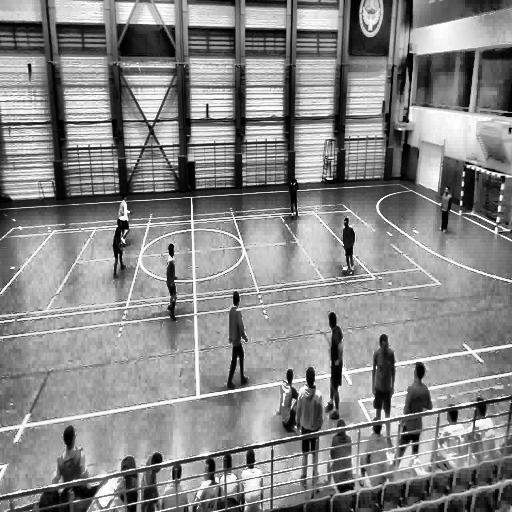ball: (342, 264, 348, 278)
player: (392, 361, 432, 474), (292, 366, 323, 493), (371, 334, 395, 437), (432, 401, 466, 471), (226, 291, 249, 387), (357, 417, 388, 486), (325, 312, 344, 420), (326, 418, 354, 490), (52, 426, 88, 481), (467, 398, 496, 464), (276, 368, 303, 435), (139, 451, 163, 512), (241, 447, 263, 512), (194, 458, 219, 512), (162, 465, 190, 512), (220, 452, 239, 507), (166, 243, 178, 320), (116, 192, 132, 246), (112, 217, 126, 277), (342, 218, 354, 275), (438, 185, 451, 234), (288, 176, 298, 218)
